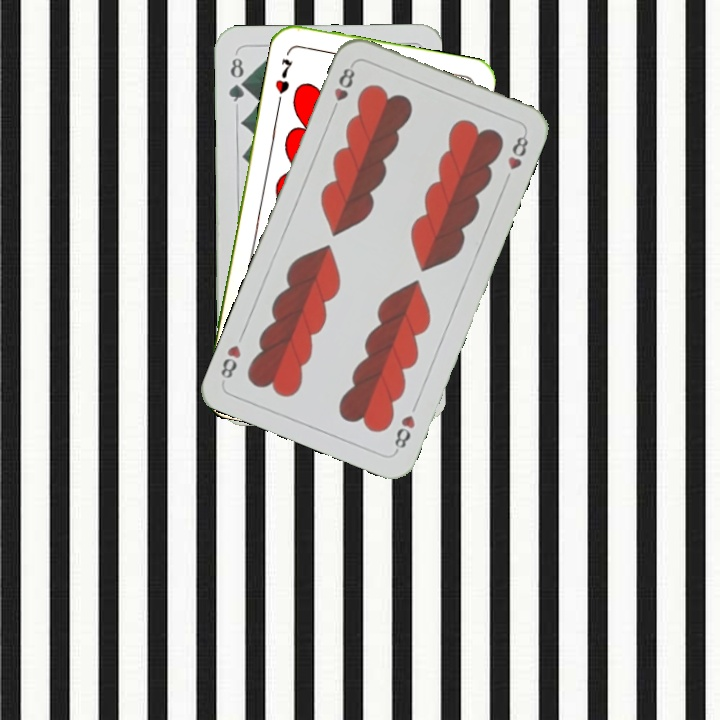G8: (224, 53, 248, 104)
H7: (271, 54, 296, 97)
H8: (327, 60, 358, 117), (390, 411, 418, 455)
